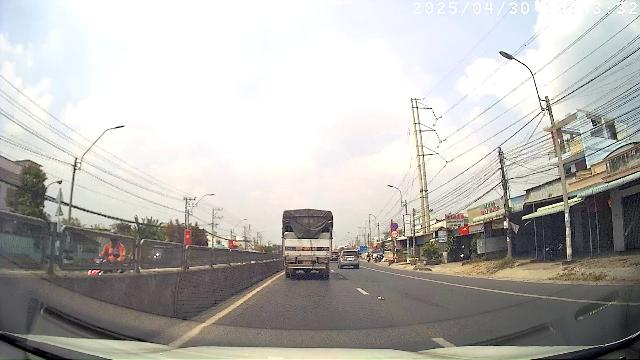125-cam-vuot: (391, 230, 399, 238)
130-cam-dung-va-do-xe: (390, 222, 398, 229)
